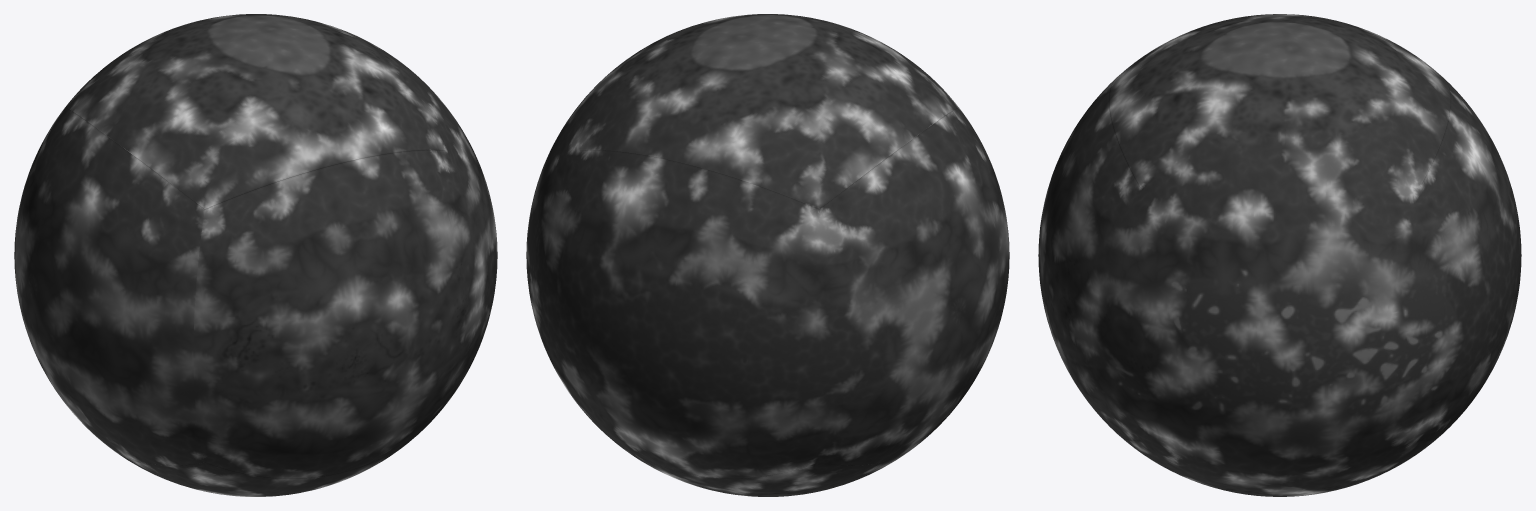
The model's file is CelestialBodyModel.glb.
3 views of the same model, side by side, from view 1: azimuth 30°, elevation 25°; view 2: azimuth 150°, elevation 25°; view 3: azimuth 270°, elevation 25° (orthographic).
Parts seen in each view (by area): view 1: Cube; view 2: Cube; view 3: Cube.
Boxes of the visible parts, bbox=[...] form: Cube: bbox=[14, 14, 497, 496]; Cube: bbox=[526, 14, 1009, 496]; Cube: bbox=[1038, 14, 1521, 496].
Size of the model in its own units: 1.71 by 1.71 by 1.71.
1 material, 1 textured.
